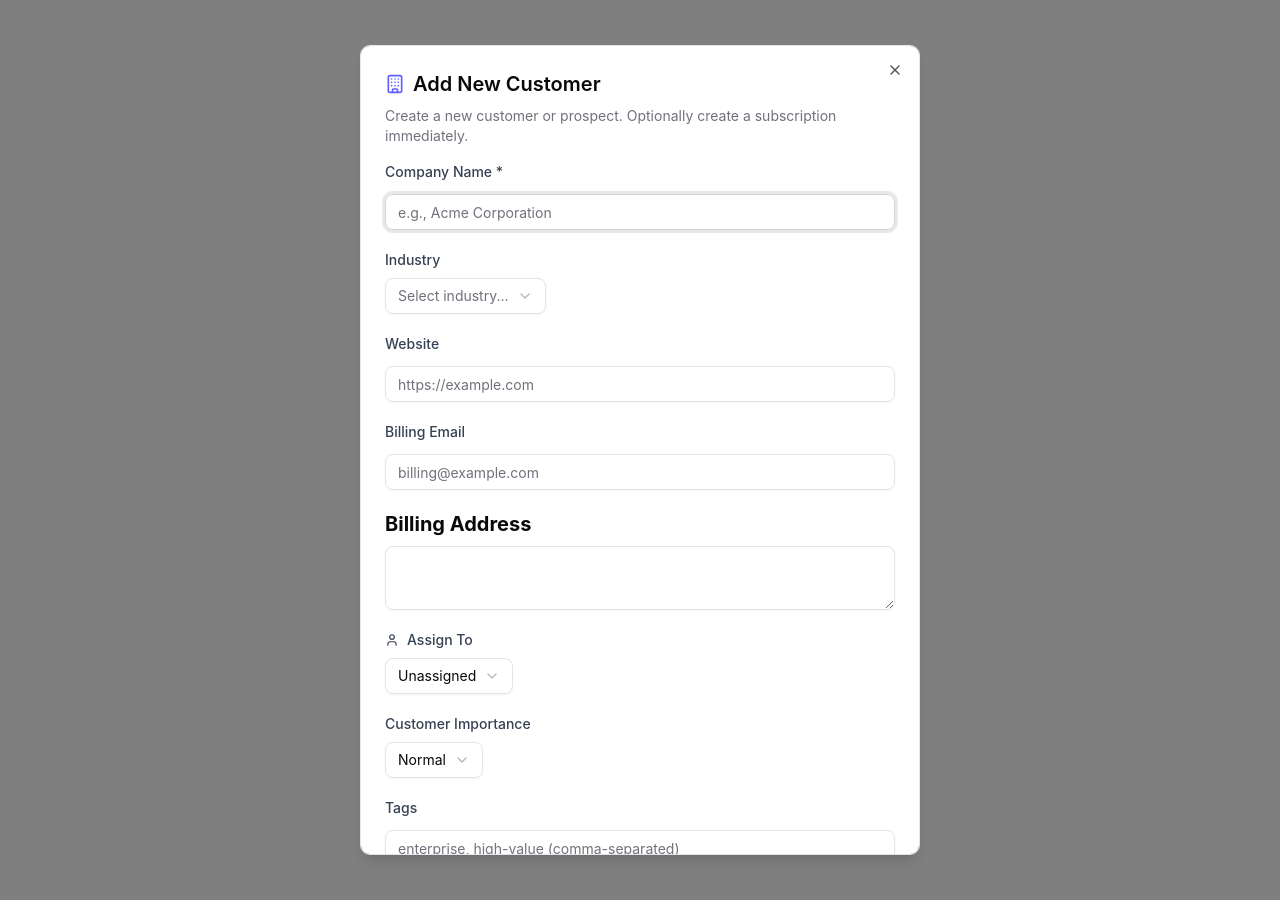
Test: CreateCustomerDialog › Error Handling › should display error message and keep dialog open on error
Step 1. Type "Acme Corp" into the field with placeholder "e.g., Acme Corporation" → (640,212), box [385, 194, 895, 230]
(page scrolled)
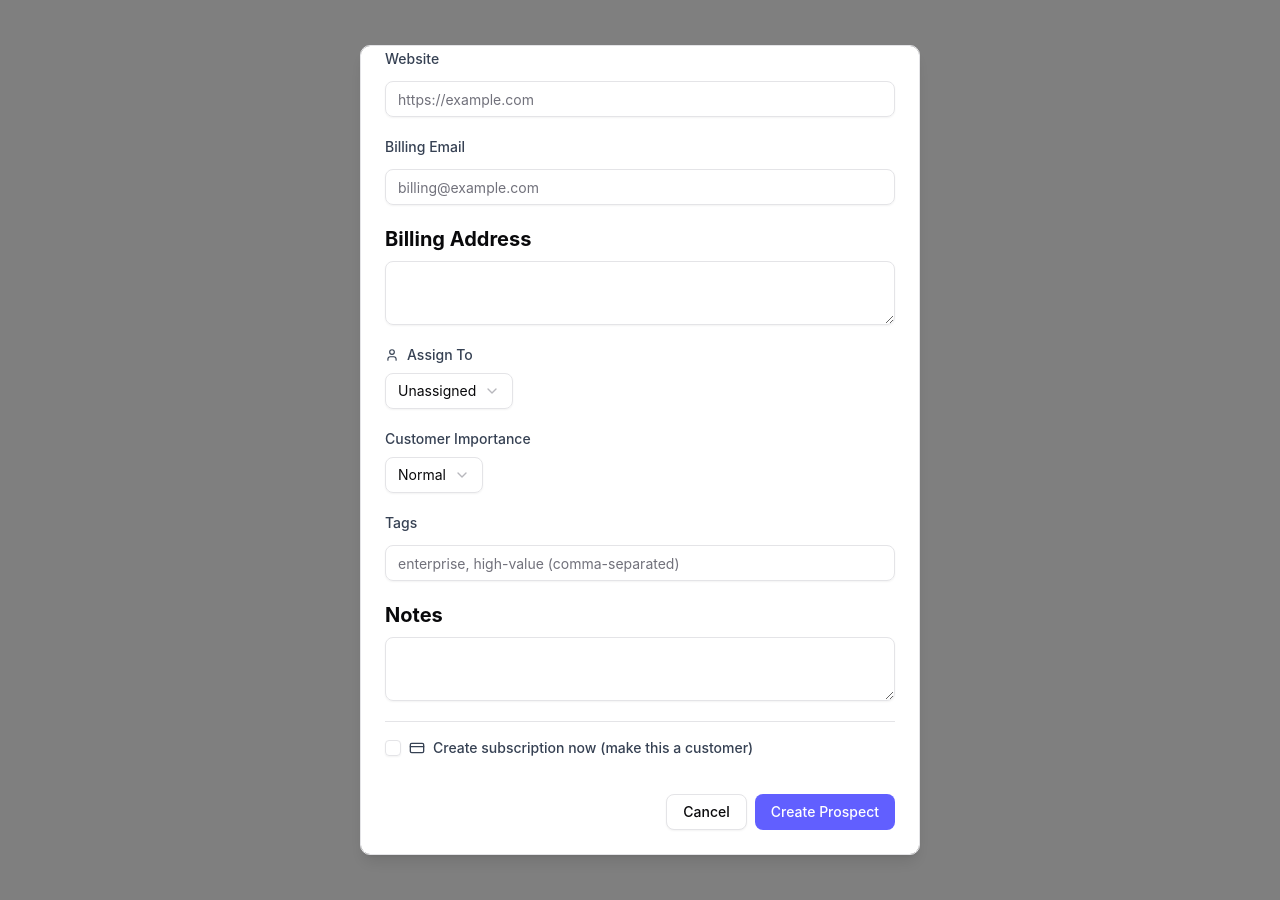
Step 2. Click the button "Create Prospect" → (825,812), box [755, 794, 895, 830]
(page scrolled)
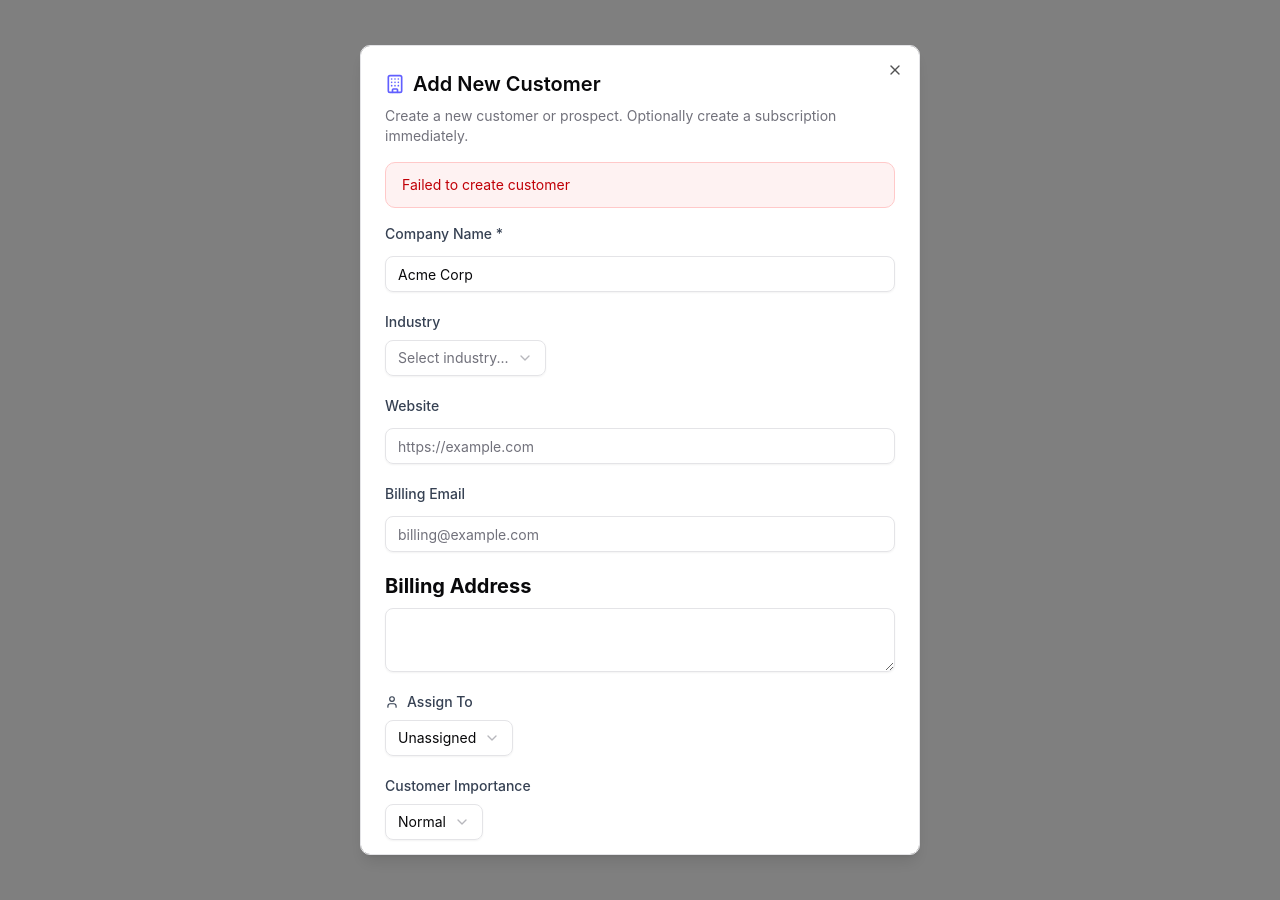
Check: the text "Failed to create customer" is shown, box [385, 162, 895, 208]
Check: the heading "Add New Customer" is shown, box [385, 72, 601, 96]
